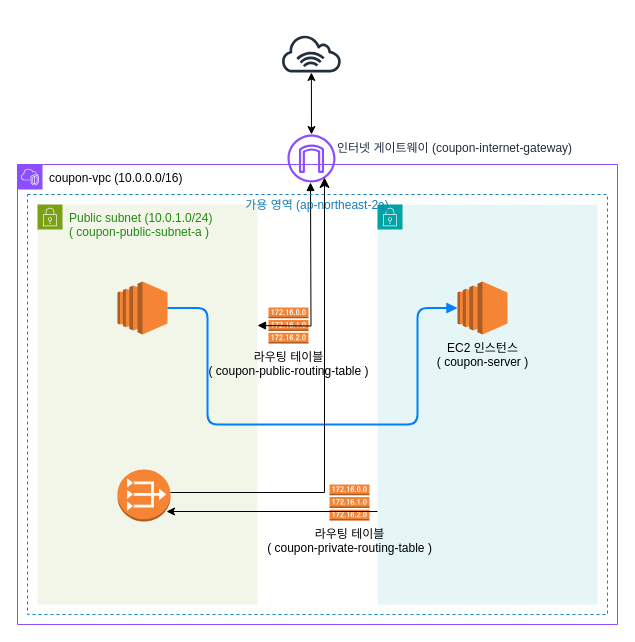
Image size: 635x642. Some labels were removed from this diagram. The shapes that lost their labels are listed below. From the top down, each one's box as (x1, y1, x2, y2) in pixels, then its label:
(280, 34, 342, 72): 인터넷
(116, 280, 168, 334): EC2 인스턴스 ( bastion-host )
(376, 204, 598, 604): Private subnet (10.0.2.0/24) ( coupon-private-subnet-a )
(116, 468, 170, 522): NAT 게이트웨이
